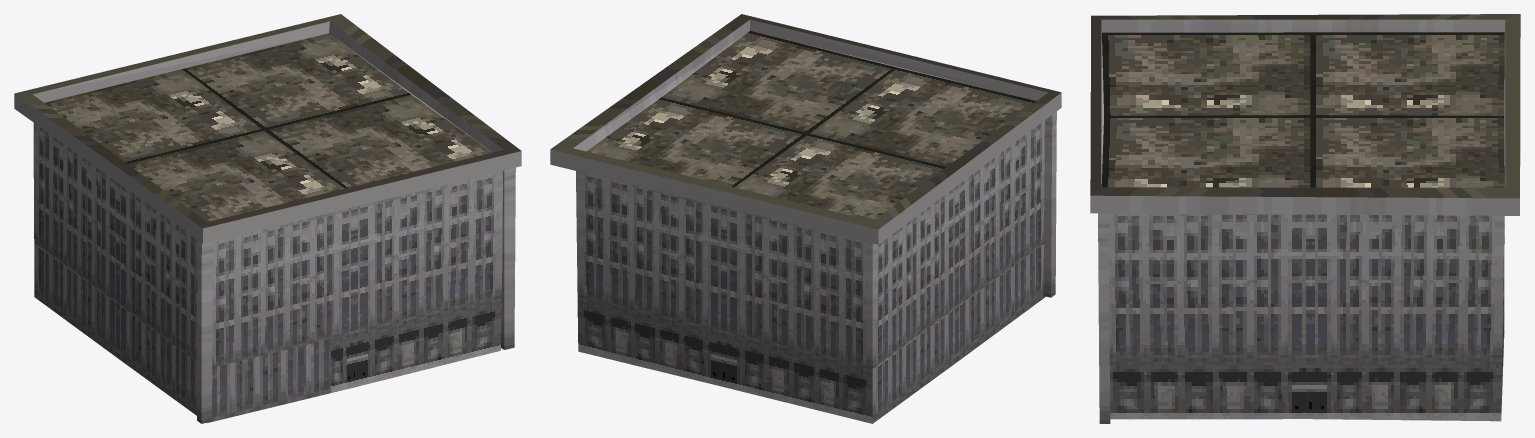
The model's file is lodbuildsm01.obj.
3 views of the same model, side by side, from view 1: azimuth 30°, elevation 25°; view 2: azimuth 150°, elevation 25°; view 3: azimuth 270°, elevation 25° (orthographic). The views are drawn at different scales.
Parts seen in each view (by area): view 1: LODbuildsm01; view 2: LODbuildsm01; view 3: LODbuildsm01.
Boxes of the visible parts, <box> form: LODbuildsm01: <box>14,14,521,423</box>; LODbuildsm01: <box>550,14,1061,423</box>; LODbuildsm01: <box>1090,14,1520,423</box>.
Size of the model in its own units: 71.07 by 42.25 by 70.04.
Materials: 2 (2 with a texture image).
